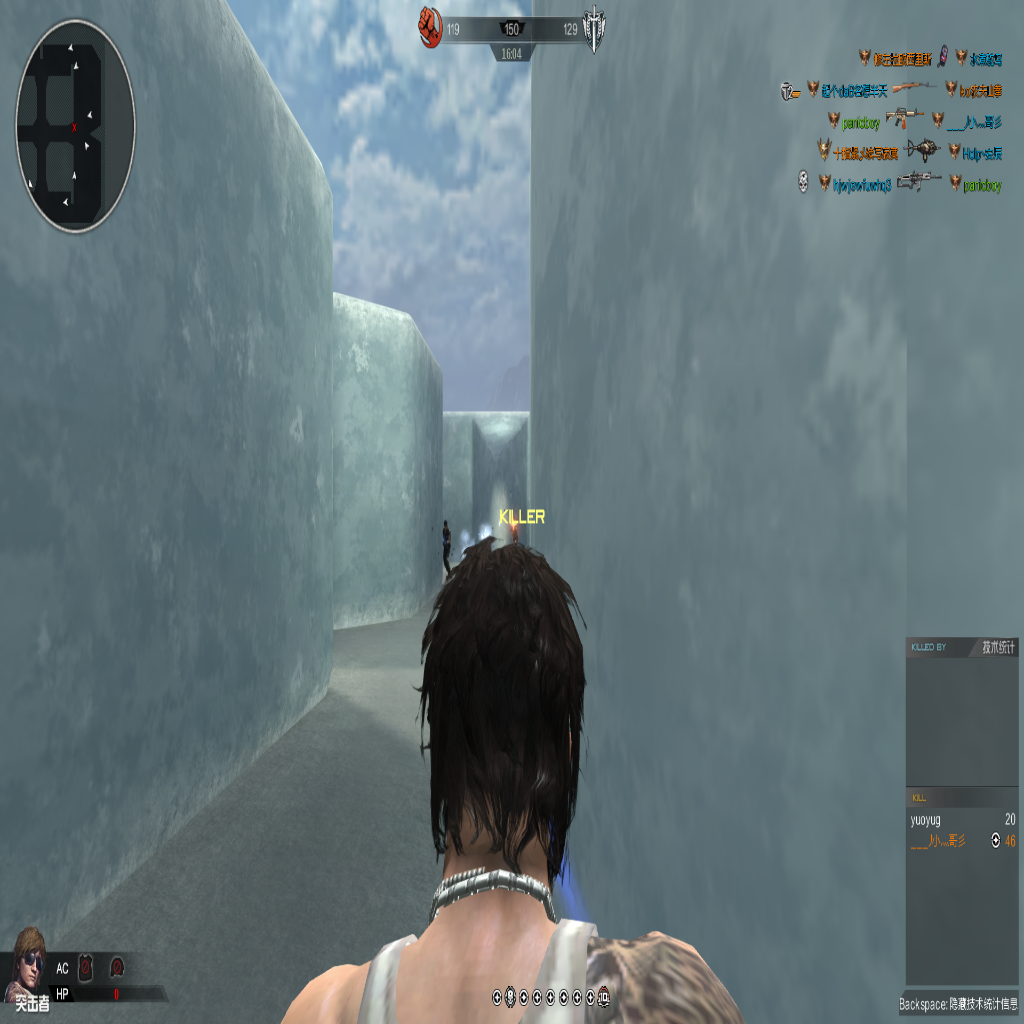ct: (442, 518, 452, 578)
